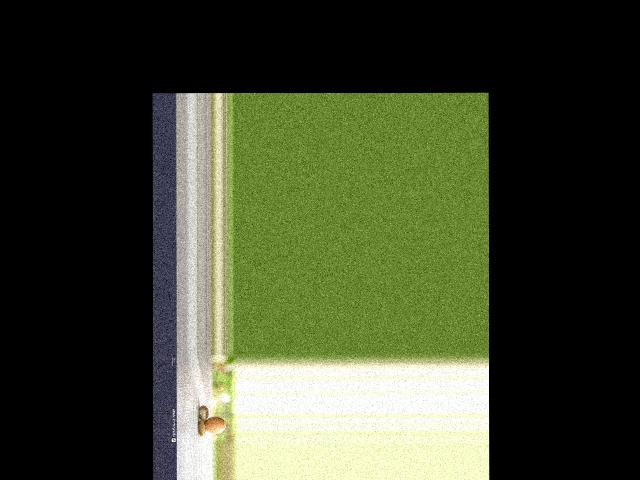egg: (204, 416, 225, 433)
